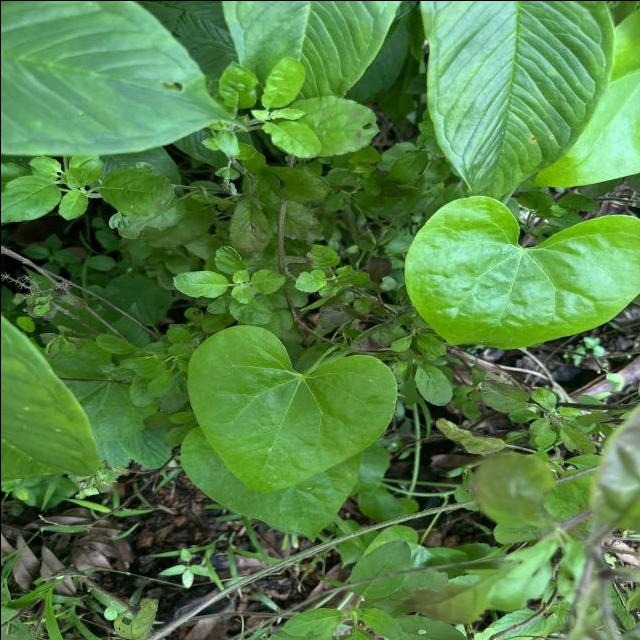Tinospora cordifolia: (400, 192, 640, 352), (184, 322, 398, 496)
